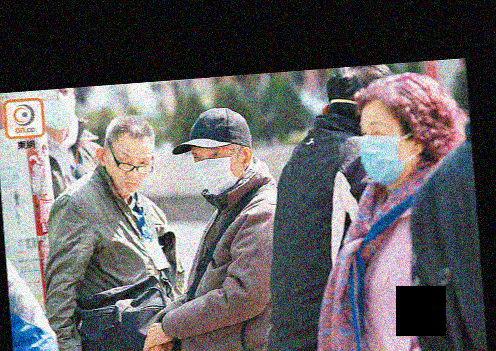with_mask: (359, 117, 415, 188), (190, 144, 243, 193), (41, 89, 78, 133)
without_mask: (104, 149, 153, 195)
